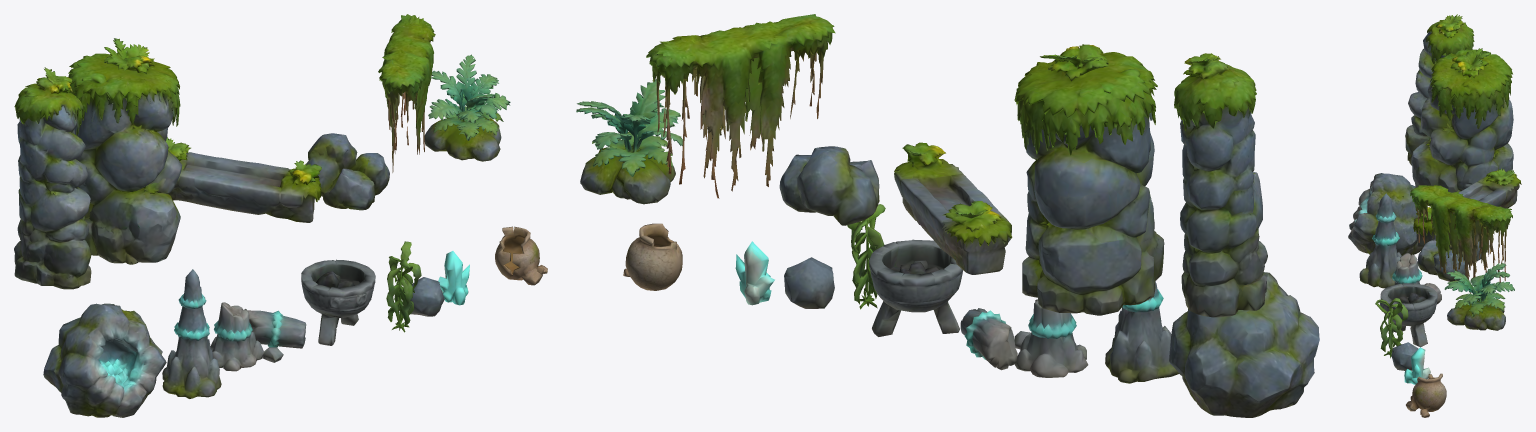
The model's file is ruinas_piedra.glb.
The picture shows the model from 3 angles, left to right: view 1: azimuth 30°, elevation 25°; view 2: azimuth 150°, elevation 25°; view 3: azimuth 270°, elevation 25°; orthographic projection. The views are drawn at different scales.
Parts seen in each view (by area): view 1: tripo_node_d25aa2f0-5d3c-420f-9ce8-797994bc60b5; view 2: tripo_node_d25aa2f0-5d3c-420f-9ce8-797994bc60b5; view 3: tripo_node_d25aa2f0-5d3c-420f-9ce8-797994bc60b5.
Part boxes in pixels (bbox=[...]): tripo_node_d25aa2f0-5d3c-420f-9ce8-797994bc60b5: bbox=[14, 14, 547, 417]; tripo_node_d25aa2f0-5d3c-420f-9ce8-797994bc60b5: bbox=[576, 14, 1319, 417]; tripo_node_d25aa2f0-5d3c-420f-9ce8-797994bc60b5: bbox=[1348, 14, 1521, 417].
Bounding box in the file's own units: 0.9799 × 0.5569 × 0.3804.
Materials: 1 (1 with a texture image).
